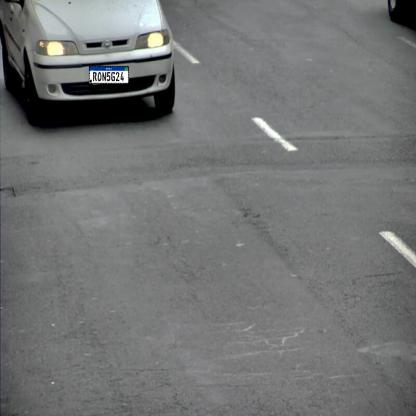PlacaM: (89, 66, 129, 84)
